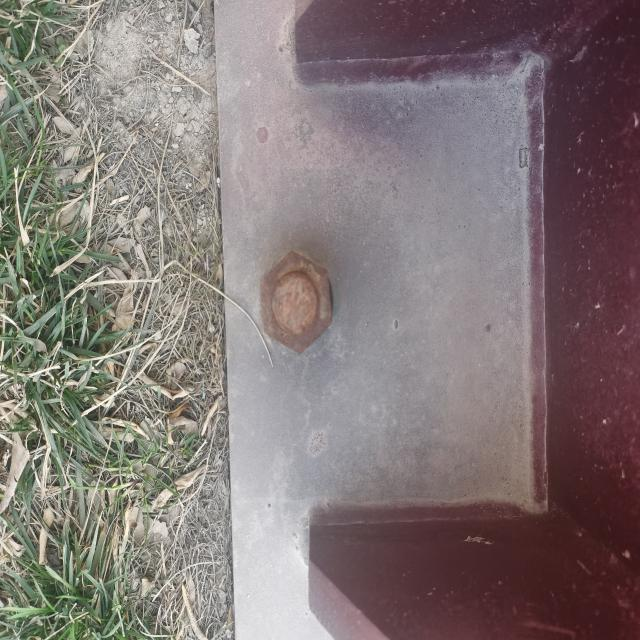bolt nut: (257, 245, 336, 360)
